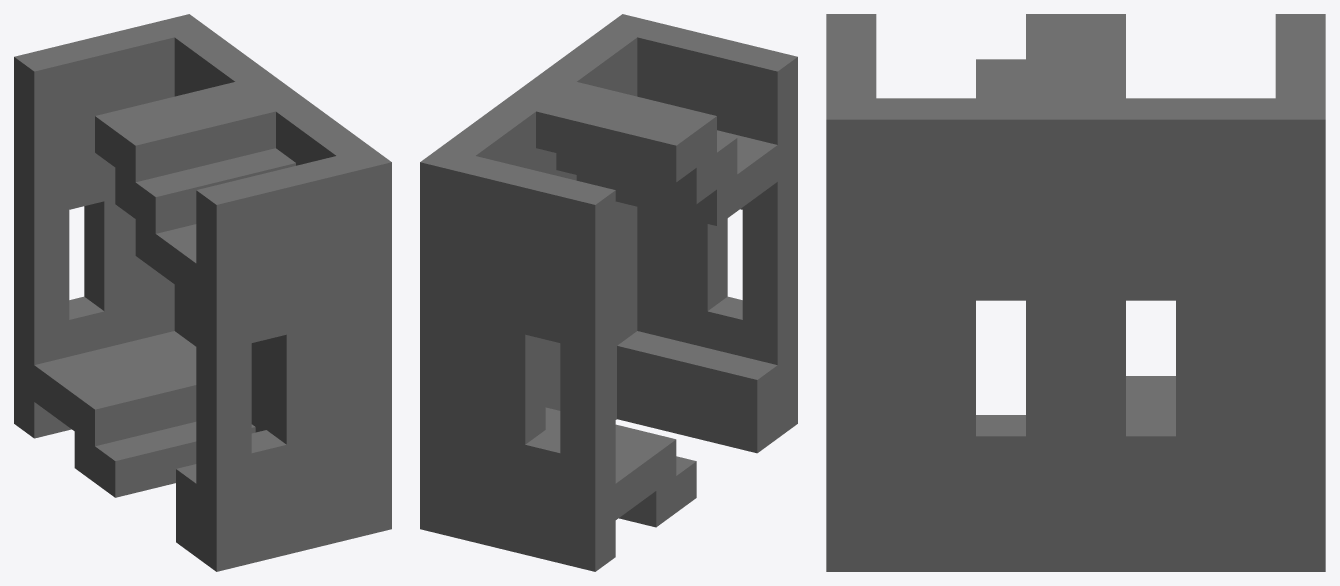
File: building_tower_left_groundlevel.obj
3 renders of one model, left to right at view 1: azimuth 30°, elevation 25°; view 2: azimuth 150°, elevation 25°; view 3: azimuth 270°, elevation 25°, orthographic. The views are drawn at different scales.
Bounding box in the file's own units: 5 × 10 × 10.
Materials: 1 (1 with a texture image).
